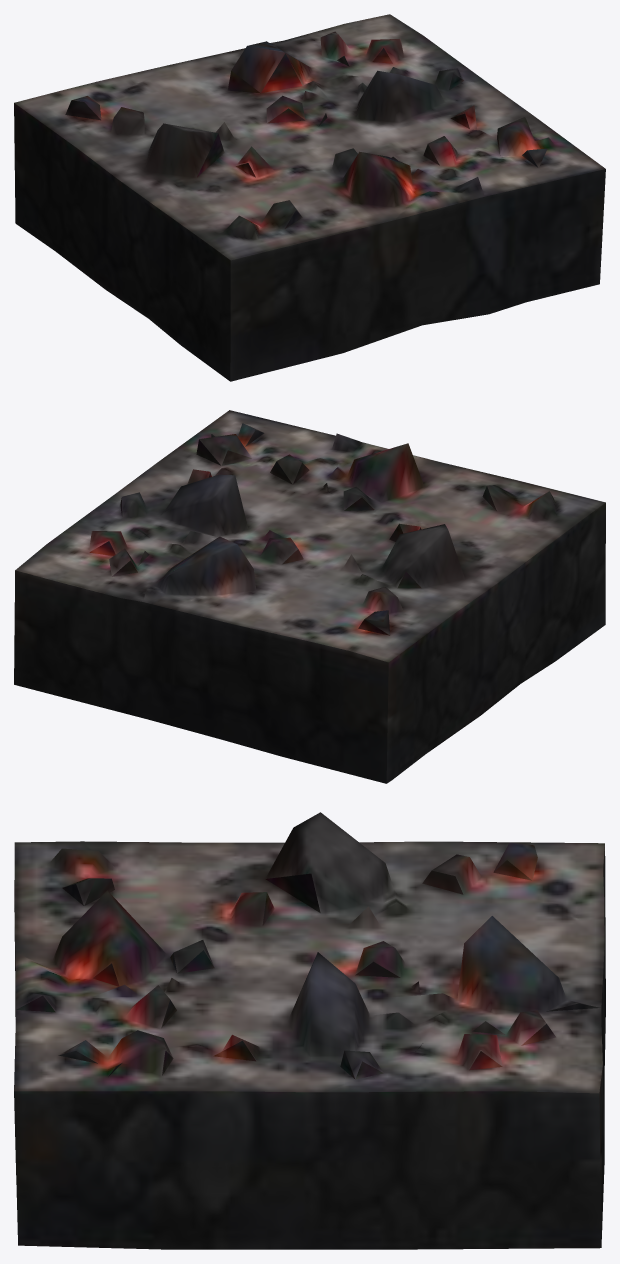
Rendered from b_braises_sol_2.glb.
The picture shows the model from 3 angles, top to bottom: view 1: azimuth 30°, elevation 25°; view 2: azimuth 150°, elevation 25°; view 3: azimuth 270°, elevation 25°; orthographic projection. The views are drawn at different scales.
Visible parts, largest first — view 1: geometry_0; view 2: geometry_0; view 3: geometry_0.
Boxes of the visible parts, left/top/right/bottom form: geometry_0: left=14, top=14, right=605, bottom=381; geometry_0: left=14, top=410, right=605, bottom=783; geometry_0: left=14, top=812, right=605, bottom=1249.
Size of the model in its own units: 1 by 0.4252 by 1.
Materials: 1 (1 with a texture image).
